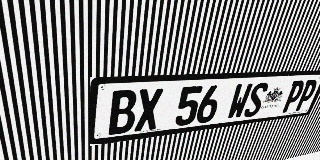5: (174, 86, 203, 127)
6: (195, 85, 223, 124)
B: (108, 89, 138, 135)
P: (280, 80, 307, 113), (293, 79, 319, 111)
S: (242, 82, 270, 118)
W: (226, 83, 253, 120)
X: (134, 88, 163, 132)
